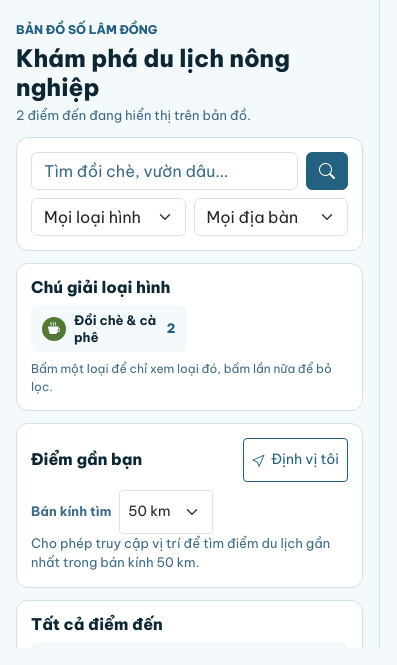
Test: MapView › bao loi khi nguoi dung tu choi quyen vi tri
Click the button with class "btn-outline-success" at (296,460), box [243,438,348,482]
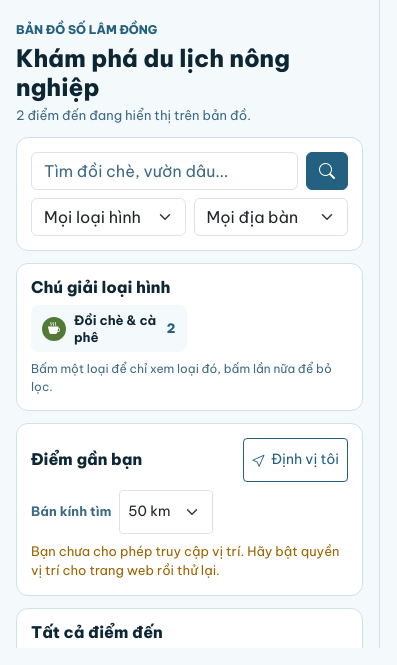
Now the text "Bạn chưa cho phép truy cập vị trí" is shown, box [31,543,340,578]
